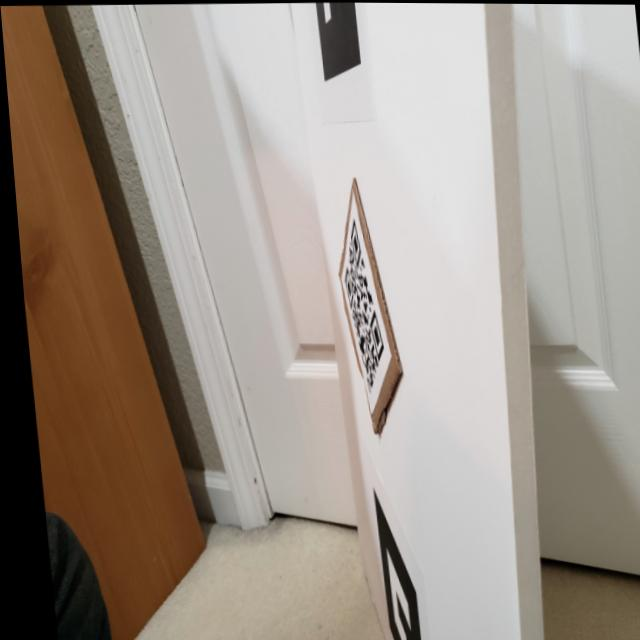QR_CODE: (323, 209, 389, 402)
